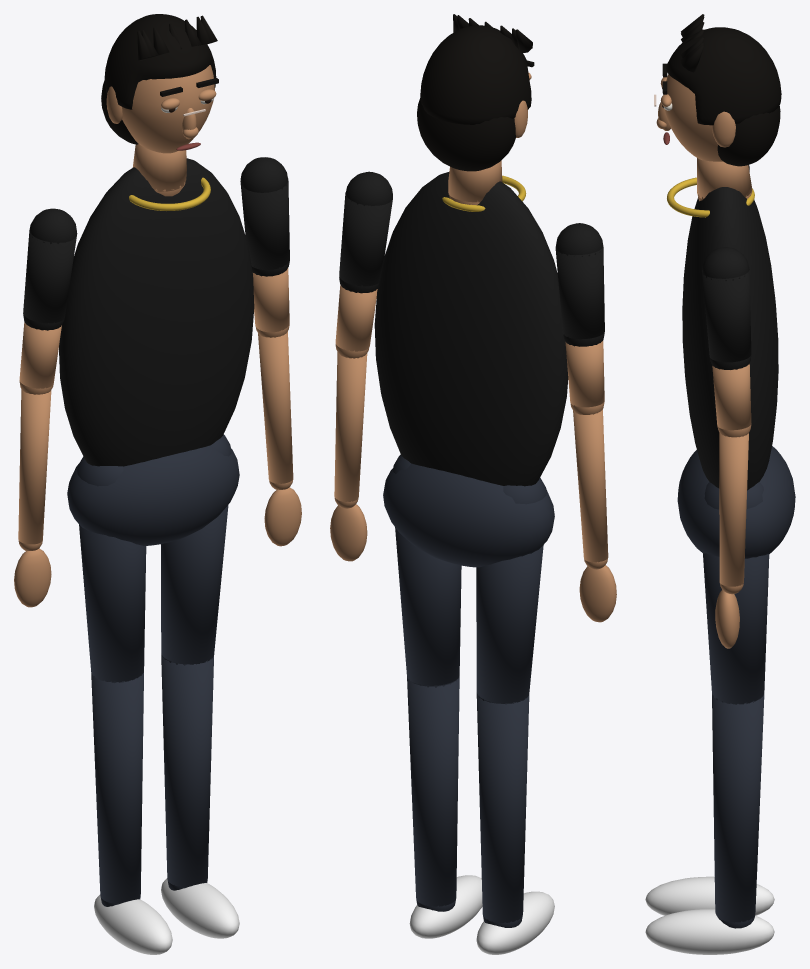
Rendered from thang.glb.
3 renders of one model, left to right at view 1: azimuth 30°, elevation 25°; view 2: azimuth 150°, elevation 25°; view 3: azimuth 270°, elevation 25°, orthographic.
Visible parts, largest first — view 1: Sphere.011, Sphere.010, Cone.003, Cone.001, Cone, Cone.002, Sphere.026, Sphere.014, Cone.014, Cone.017, Cone.012, Cone.015 (+11 smaller); view 2: Sphere.011, Sphere.010, Cone.003, Cone.001, Sphere.026, Cone, Cone.002, Sphere.027, Cone.014, Cone.017, Cone.012, Cone.015 (+10 smaller); view 3: Sphere.011, Cone.003, Sphere.026, Cone.002, Sphere.010, Sphere.009, Cone.017, Cone.015, Sphere.004, Sphere.014, Cone.016, Sphere.027 (+6 smaller).
Part boxes in pixels (left/top/right/bottom): Sphere.011: left=59, top=158, right=254, bottom=466; Sphere.010: left=67, top=445, right=239, bottom=545; Cone.003: left=161, top=654, right=213, bottom=887; Cone.001: left=91, top=673, right=143, bottom=903; Cone: left=79, top=524, right=146, bottom=682; Cone.002: left=161, top=505, right=228, bottom=664; Sphere.026: left=104, top=14, right=216, bottom=109; Sphere.014: left=122, top=65, right=214, bottom=153; Cone.014: left=18, top=389, right=51, bottom=544; Cone.017: left=258, top=331, right=293, bottom=483; Cone.012: left=23, top=230, right=76, bottom=323; Cone.015: left=240, top=178, right=289, bottom=269; Sphere.011: left=374, top=172, right=568, bottom=486; Sphere.010: left=383, top=463, right=554, bottom=567; Cone.003: left=407, top=676, right=459, bottom=906; Cone.001: left=476, top=692, right=529, bottom=922; Sphere.026: left=420, top=25, right=531, bottom=124; Cone: left=476, top=545, right=543, bottom=703; Cone.002: left=395, top=527, right=461, bottom=685; Sphere.027: left=417, top=98, right=516, bottom=171; Cone.014: left=573, top=409, right=608, bottom=562; Cone.017: left=334, top=352, right=367, bottom=501; Cone.012: left=555, top=245, right=604, bottom=339; Cone.015: left=339, top=192, right=392, bottom=286; Sphere.011: left=682, top=187, right=778, bottom=490; Cone.003: left=712, top=693, right=764, bottom=922; Sphere.026: left=666, top=27, right=781, bottom=125; Cone.002: left=703, top=553, right=769, bottom=704; Sphere.010: left=677, top=446, right=795, bottom=558; Sphere.009: left=645, top=909, right=774, bottom=954; Cone.017: left=719, top=433, right=748, bottom=586; Cone.015: left=702, top=270, right=751, bottom=362; Sphere.004: left=645, top=876, right=774, bottom=915; Sphere.014: left=665, top=74, right=722, bottom=161; Cone.016: left=712, top=364, right=751, bottom=430; Sphere.027: left=717, top=105, right=780, bottom=166.
Bounding box in the file's own units: 0.582 × 1.78 × 0.2671.
